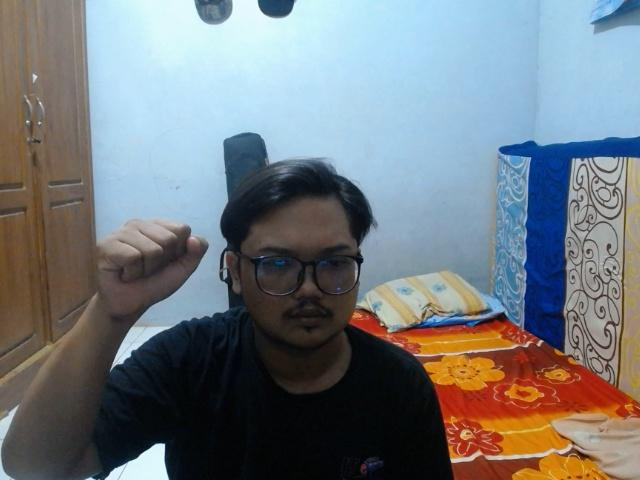Grab: (90, 213, 210, 318)
